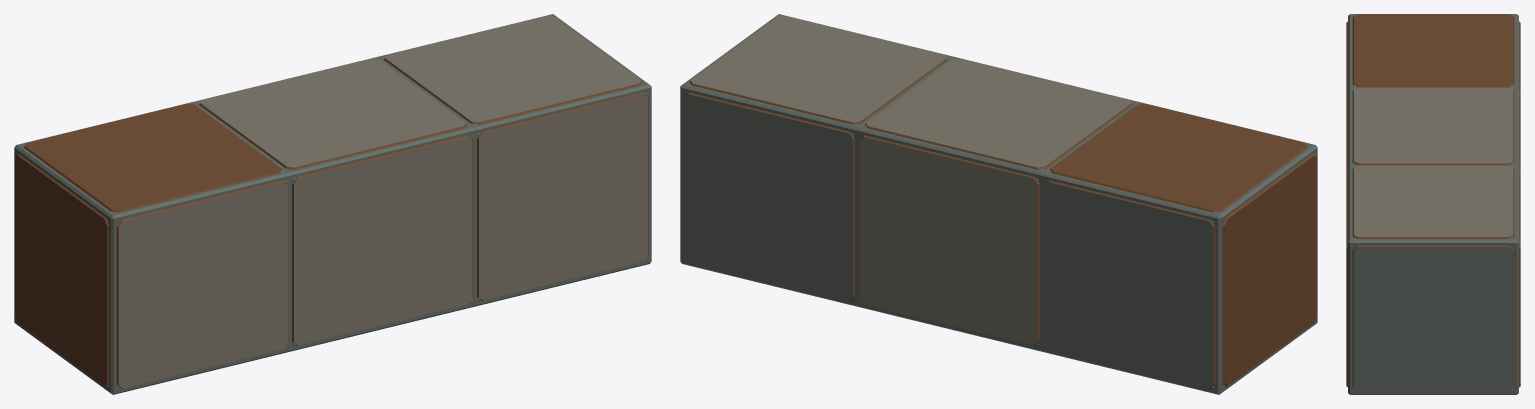
File: R4B_Beam3.fbx
3 views of the same model, side by side, from view 1: azimuth 30°, elevation 25°; view 2: azimuth 150°, elevation 25°; view 3: azimuth 270°, elevation 25° (orthographic). The views are drawn at different scales.
Visible parts, largest first — view 1: R4B_Beam3; view 2: R4B_Beam3; view 3: R4B_Beam3.
Boxes of the visible parts, x1,y1,x2,y2 form: R4B_Beam3: [14, 14, 651, 394]; R4B_Beam3: [680, 14, 1317, 394]; R4B_Beam3: [1346, 14, 1520, 394].
Bounding box in the file's own units: 1.62 × 0.52 × 0.52.
